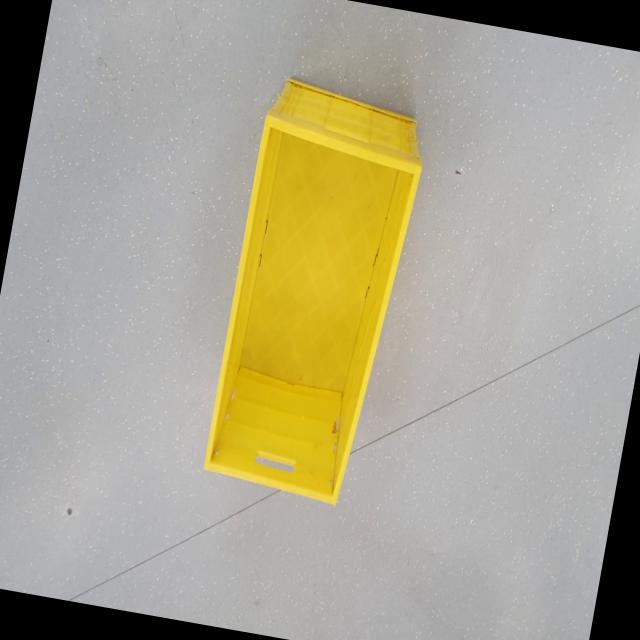box: (179, 64, 436, 515)
